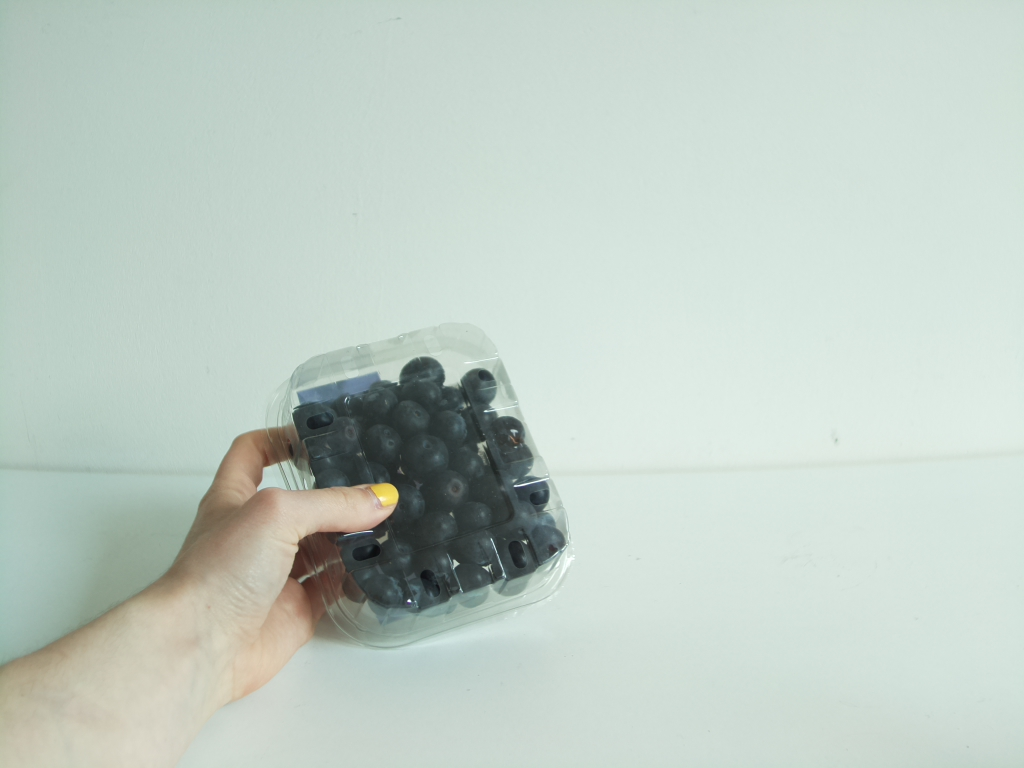soft-fruit: (261, 317, 575, 647)
